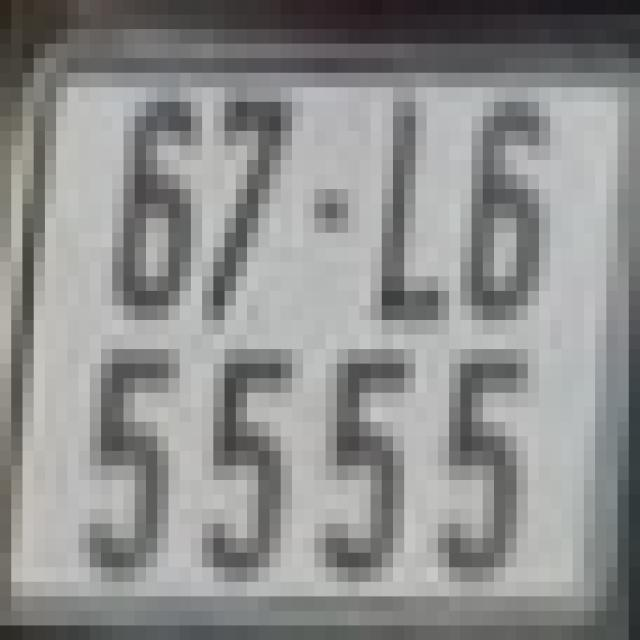5: (90, 349, 180, 567), (202, 349, 292, 567), (438, 349, 528, 567), (326, 349, 404, 567)
6: (112, 87, 202, 320), (472, 102, 550, 320)
7: (202, 87, 292, 320)
L: (371, 87, 449, 320)
